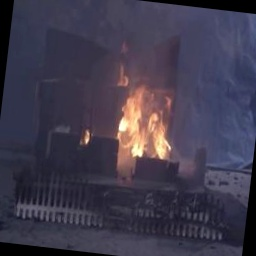fire: (102, 70, 185, 172)
